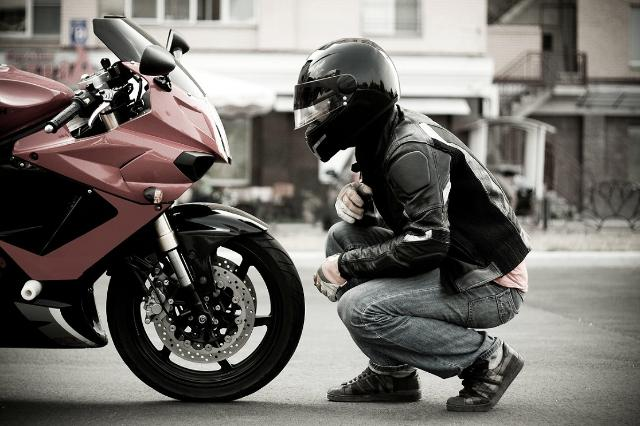helm: (293, 35, 400, 166)
motor: (2, 14, 299, 426)
